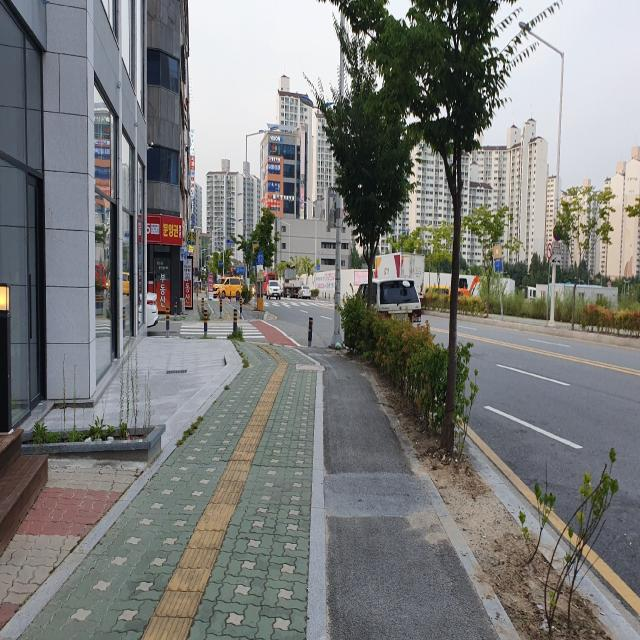횡단보도: (180, 322, 265, 339)
